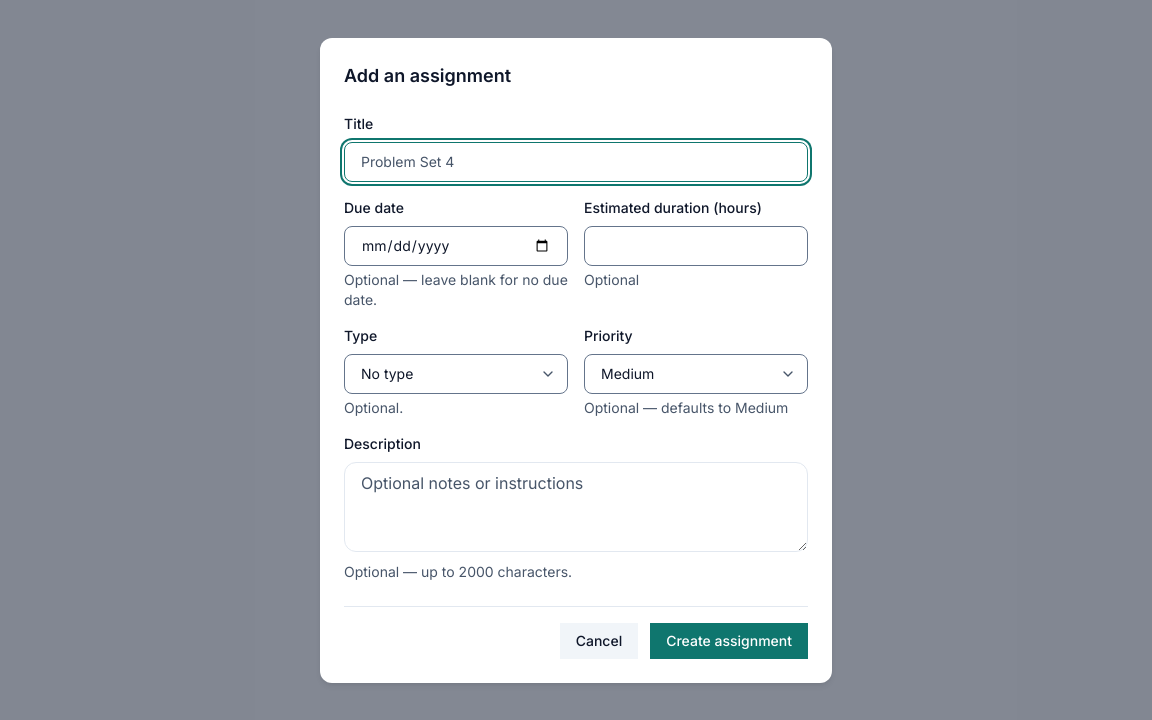
Test: AssignmentForm › rejects invalid estimated duration 0
Type "Homework" into the field labelled "Title" at point(576, 162), box [344,142,808,182]
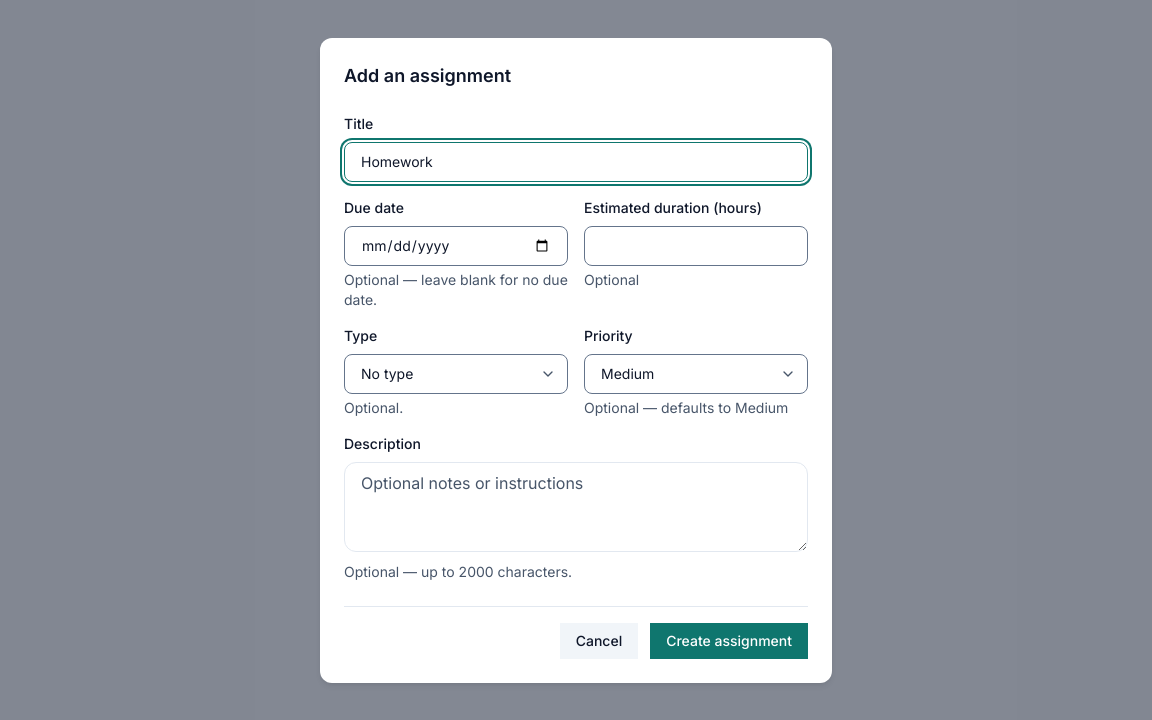
Type "0" into the number field labelled "Estimated duration (hours)" at point(696, 246), box [584,226,808,266]
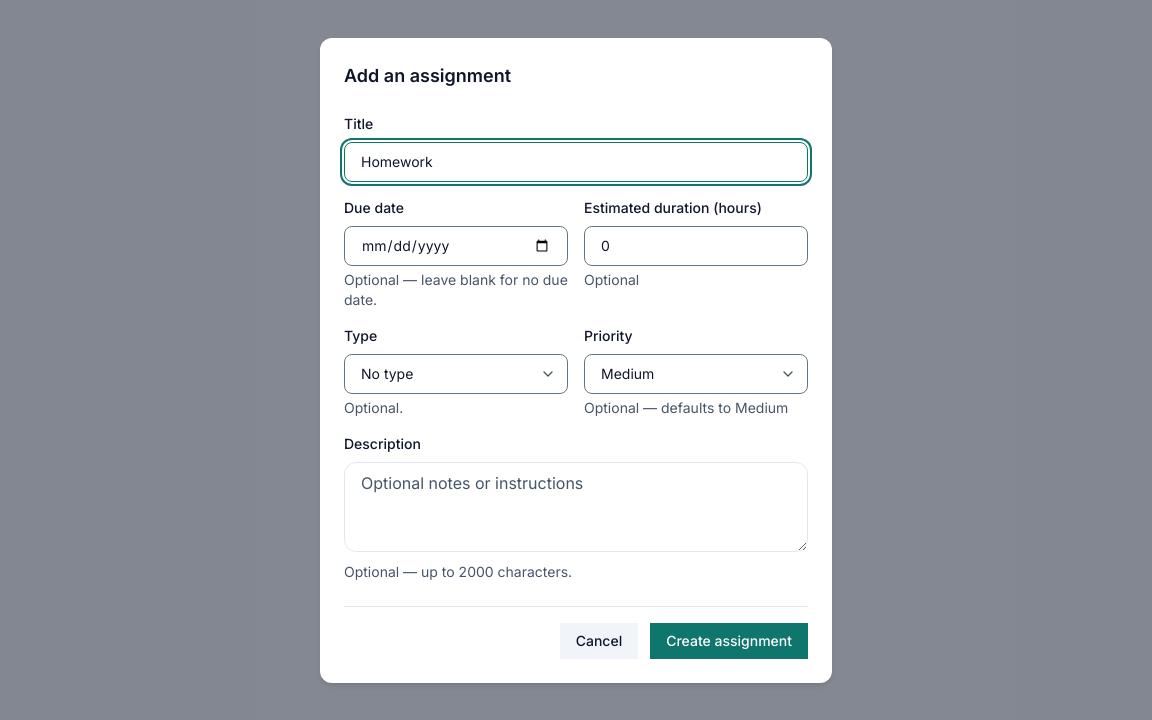
Click the button "Create assignment" at point(729, 640), box [650,622,808,658]
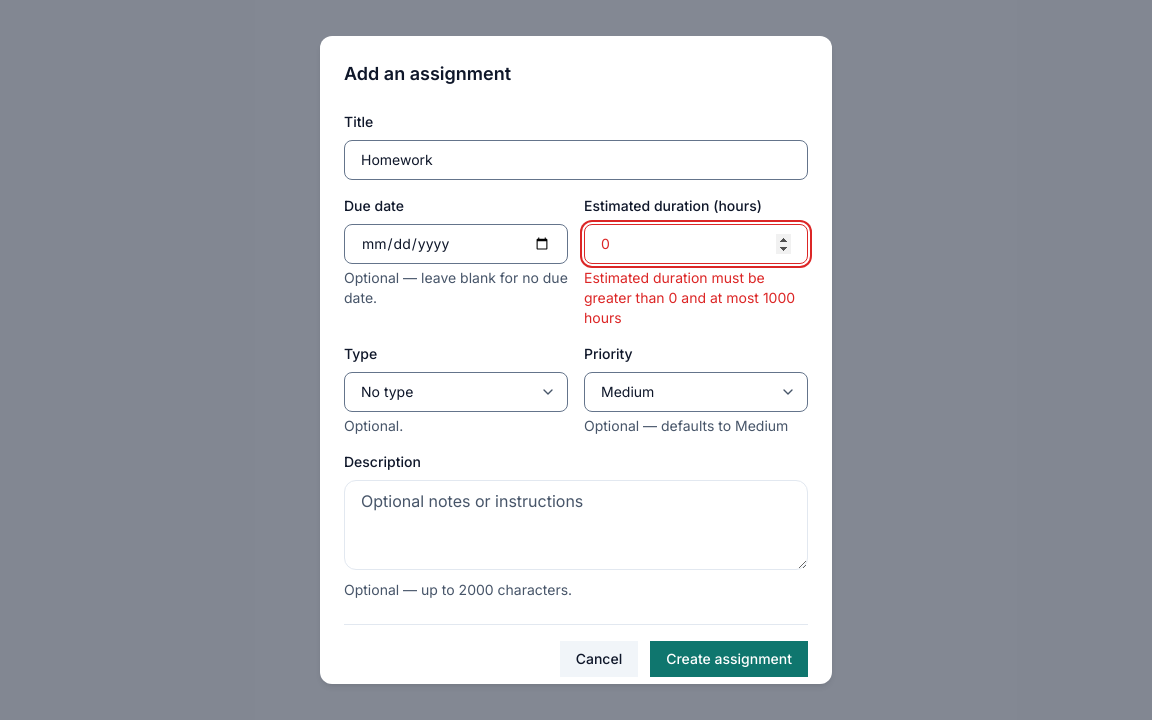
Now the text "Estimated duration must be greater than 0 and at most 1000 hours" is shown, box [584,268,808,328]
